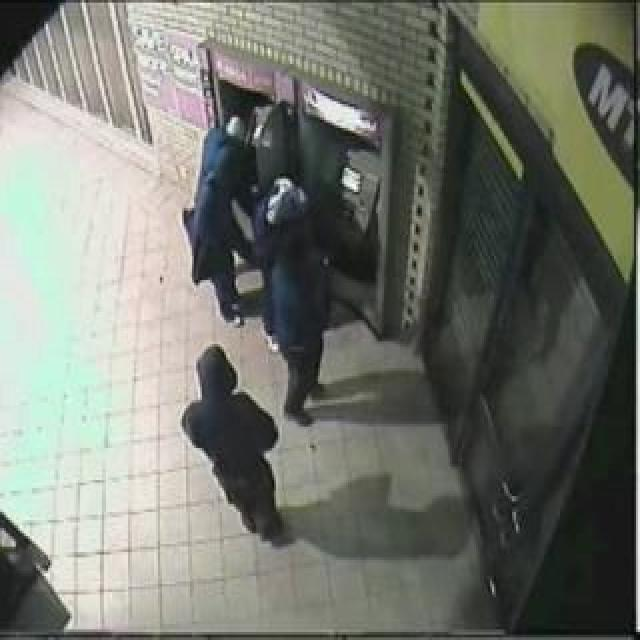thief: (199, 105, 291, 264), (172, 368, 268, 448)
